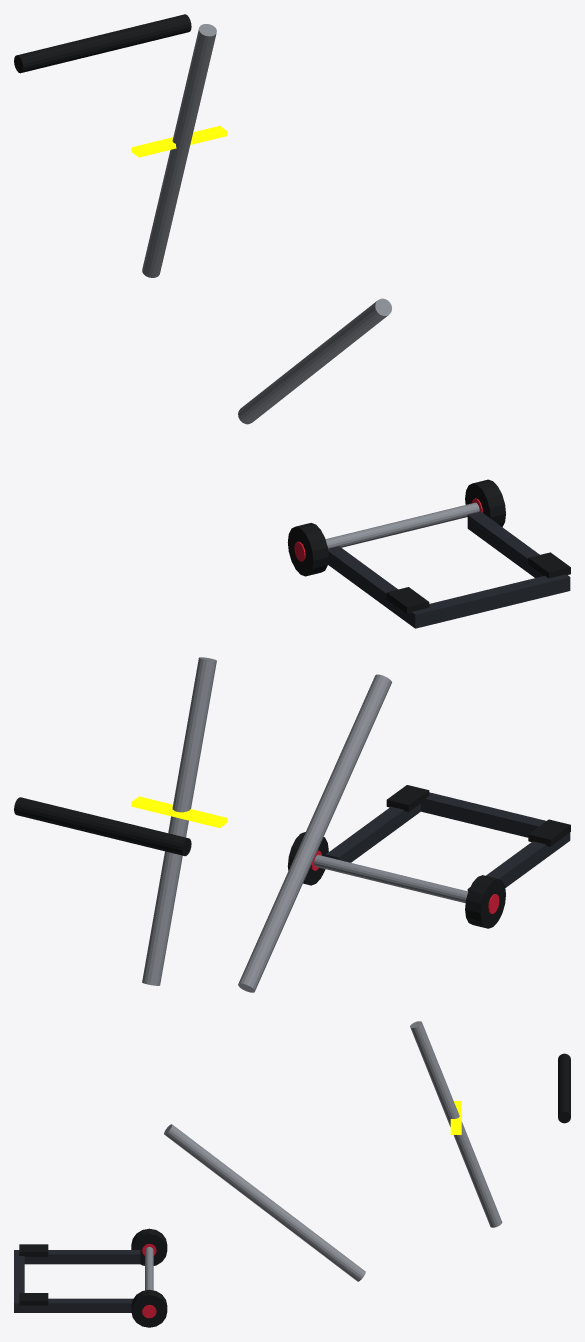
The model's file is quick_jack.glb.
3 views of the same model, one above another, from view 1: azimuth 30°, elevation 25°; view 2: azimuth 150°, elevation 25°; view 3: azimuth 270°, elevation 25° (orthographic). The views are drawn at different scales.
Parts seen in each view (by area): view 1: Prop_QuickJack; view 2: Prop_QuickJack; view 3: Prop_QuickJack.
Boxes of the visible parts, x1,y1,x2,y2 form: Prop_QuickJack: (14,14,570,628); Prop_QuickJack: (14,657,570,992); Prop_QuickJack: (14,1021,570,1327).
Size of the model in its own units: 0.44 by 0.8316 by 1.54.
